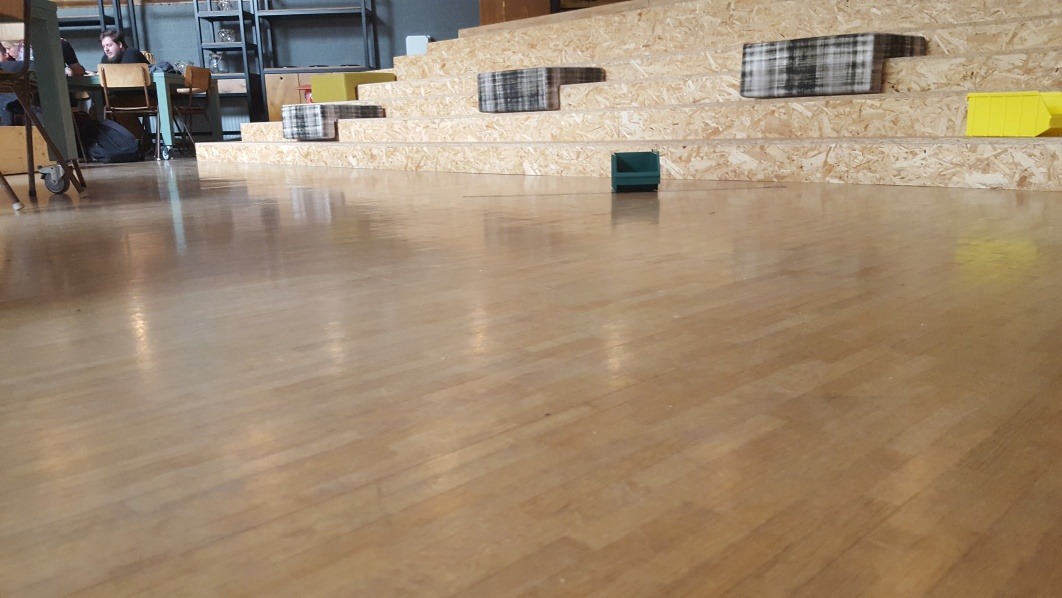tray: (955, 84, 1062, 143), (604, 145, 667, 191)
